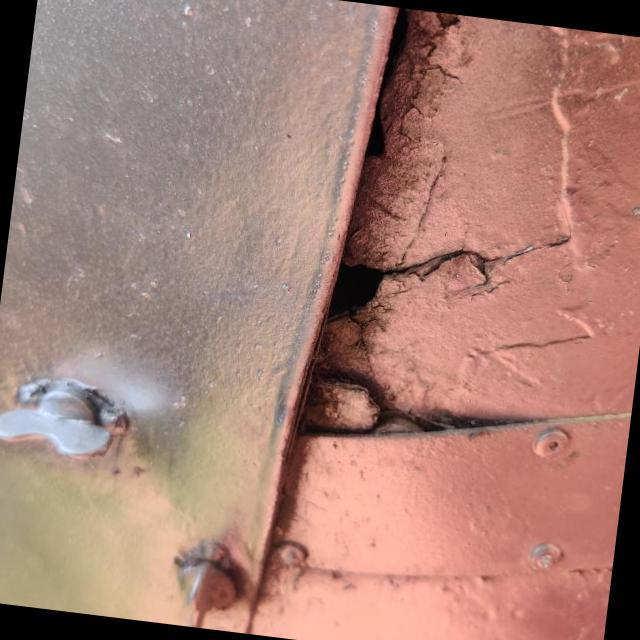Rupture: (301, 184, 574, 371)
